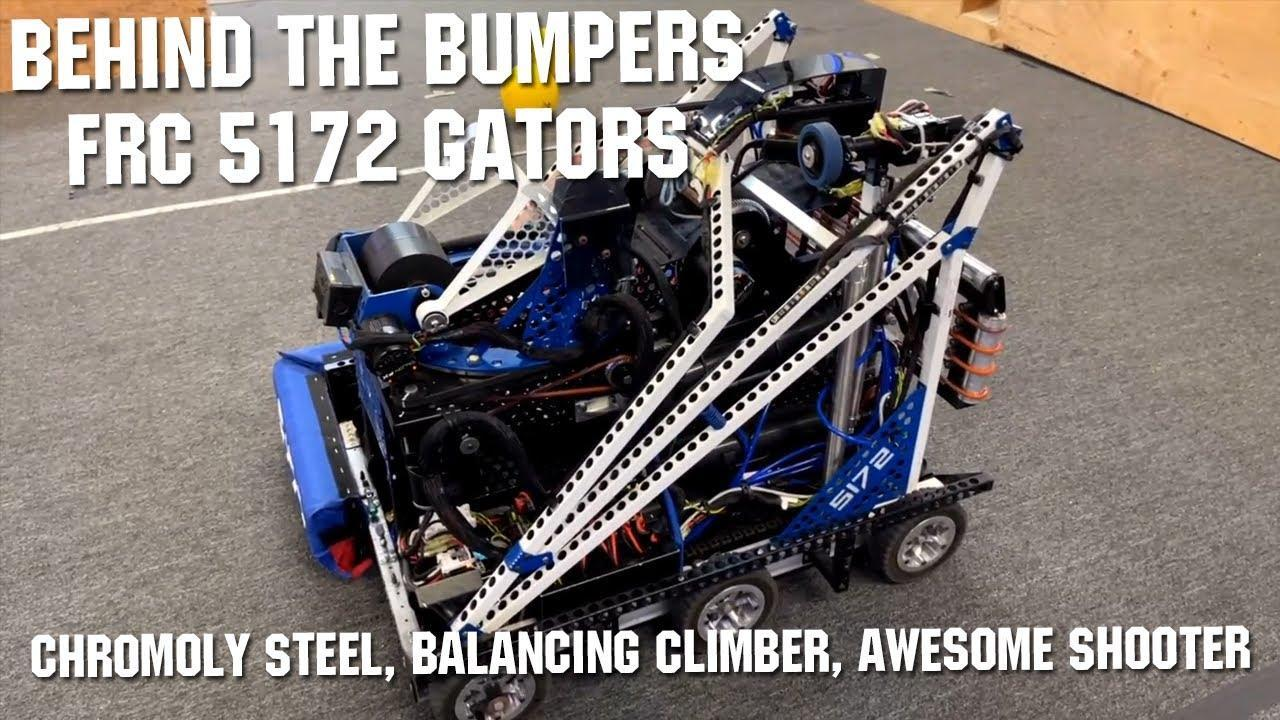robot: (259, 7, 1017, 720)
